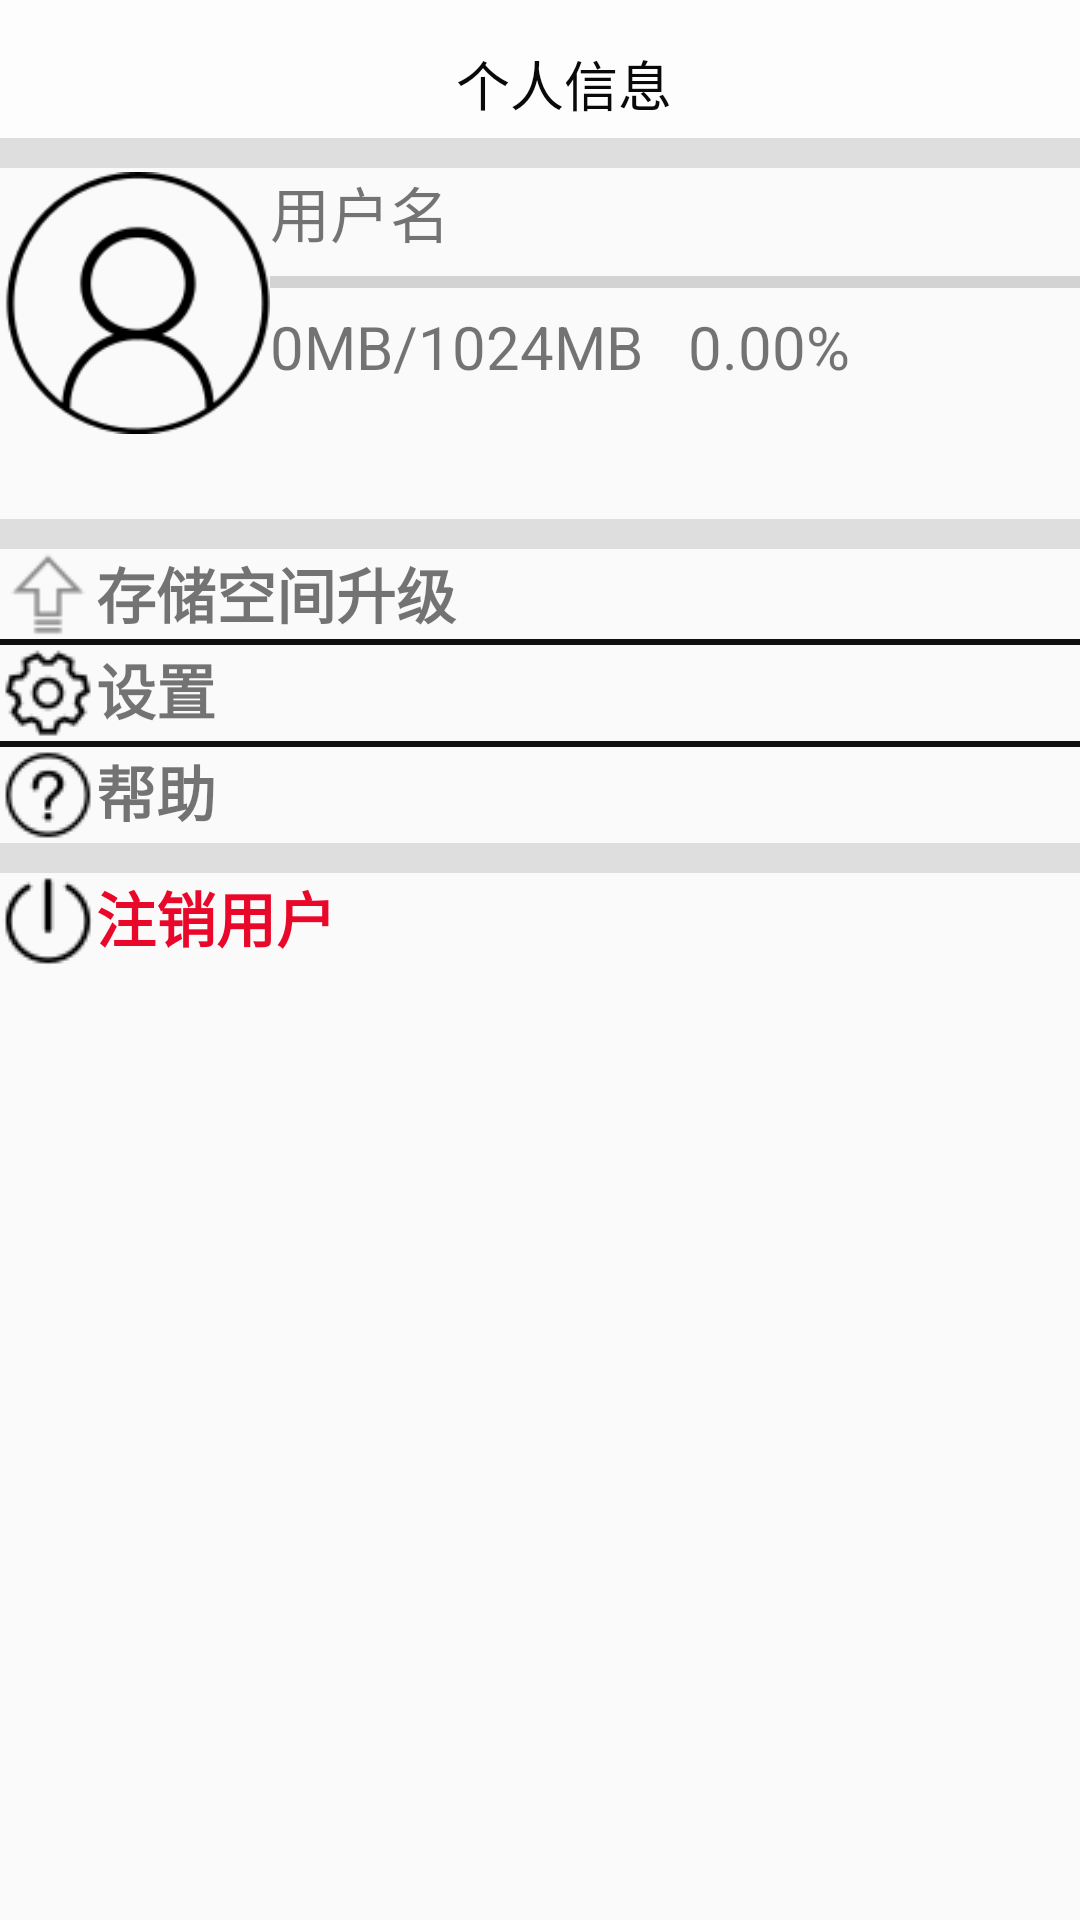

Where icons sit on this 1080 × 1920 app screen, as (x1, y1, x2, y2):
tuichu: (5, 878, 91, 964)
update: (13, 556, 83, 634)
